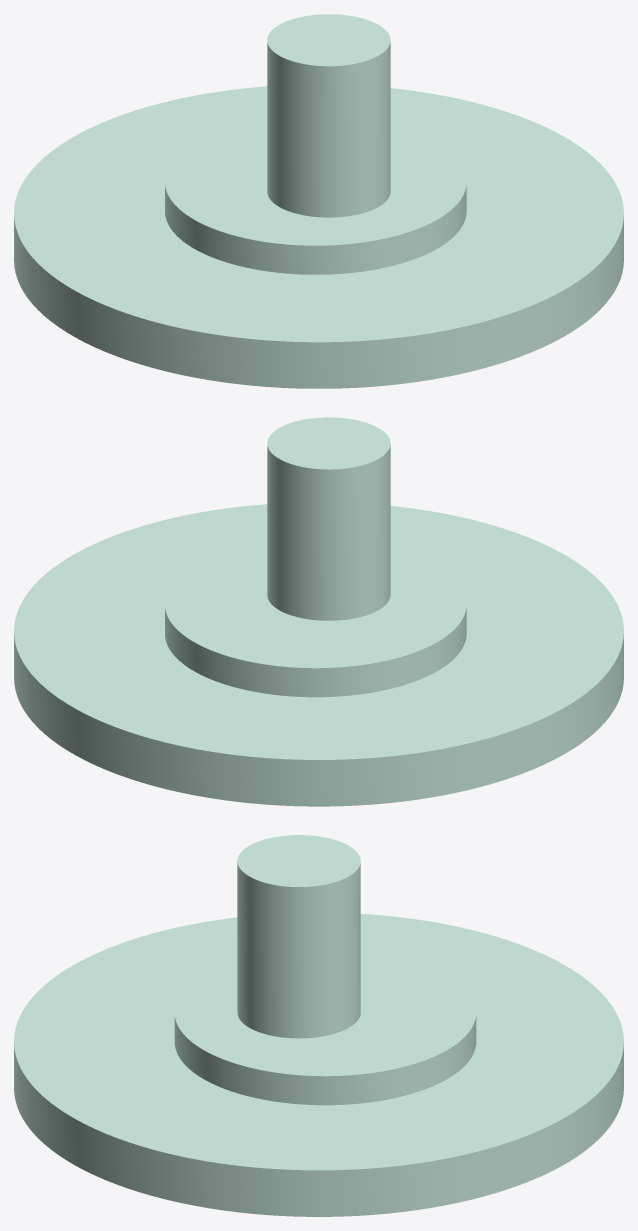
3 renders of one model, top to bottom at view 1: azimuth 30°, elevation 25°; view 2: azimuth 150°, elevation 25°; view 3: azimuth 270°, elevation 25°, orthographic.
Parts seen in each view (by area): view 1: Renderer Node; view 2: Renderer Node; view 3: Renderer Node.
Part boxes in pixels (x1,y1,x2,y2): Renderer Node: [14, 14, 623, 388]; Renderer Node: [14, 417, 623, 806]; Renderer Node: [14, 835, 623, 1216].
Bounding box in the file's own units: 1.48 × 0.6094 × 1.48.
